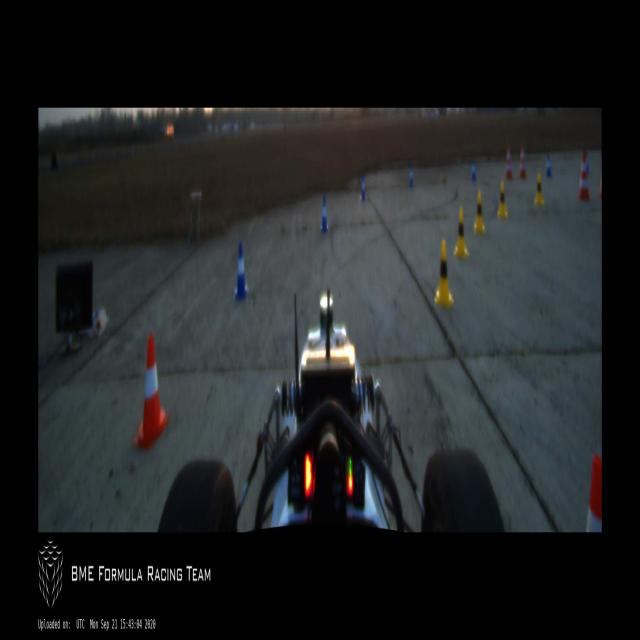blue_cone: (234, 242, 248, 299), (321, 194, 328, 232), (360, 174, 366, 200), (546, 152, 552, 177), (408, 162, 414, 185), (471, 160, 477, 182)
large_orange_cone: (579, 151, 589, 200), (504, 146, 514, 180), (519, 145, 527, 180)
orange_cone: (136, 333, 168, 442), (586, 455, 601, 532)
yellow_cone: (435, 239, 454, 305), (455, 207, 468, 258), (474, 192, 484, 230), (534, 172, 545, 206), (498, 180, 507, 217)
